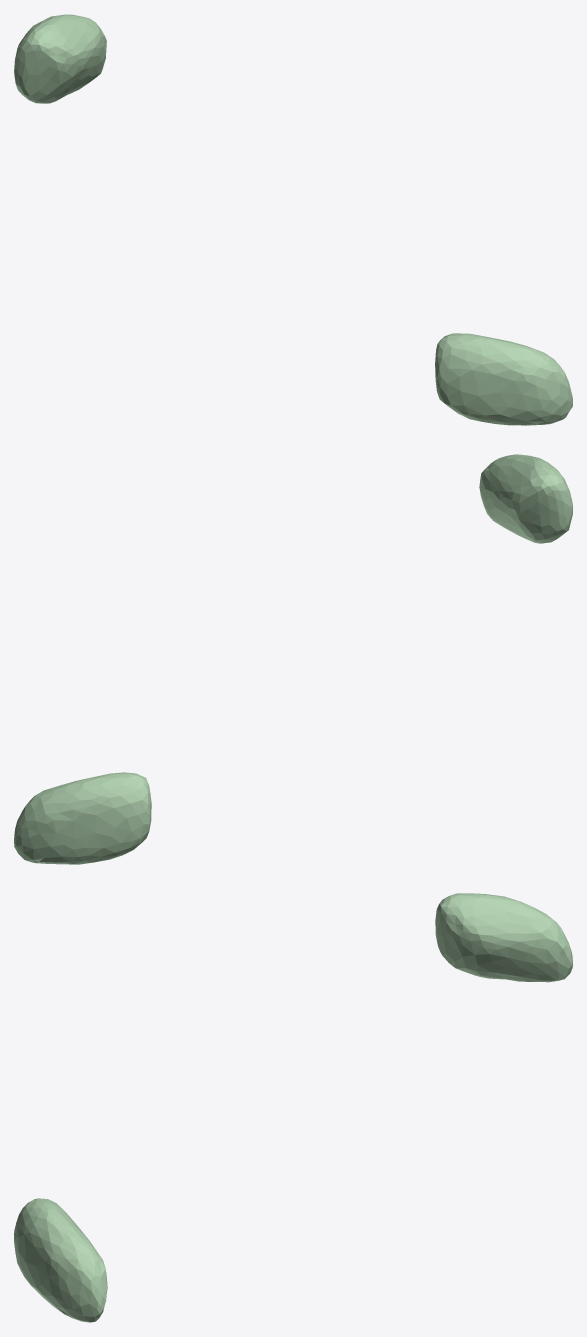
The picture shows the model from 3 angles, top to bottom: view 1: azimuth 30°, elevation 25°; view 2: azimuth 150°, elevation 25°; view 3: azimuth 330°, elevation 25°; orthographic projection.
Visible parts, largest first — view 1: 451.obj; view 2: 451.obj; view 3: 451.obj.
Part boxes in pixels (x1,y1,x2,y2): 451.obj: (14, 14, 572, 425); 451.obj: (14, 454, 572, 864); 451.obj: (14, 893, 572, 1322).
Size of the model in its own units: 974 by 722 by 7184.
